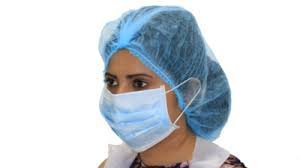mask: (88, 6, 217, 153)
